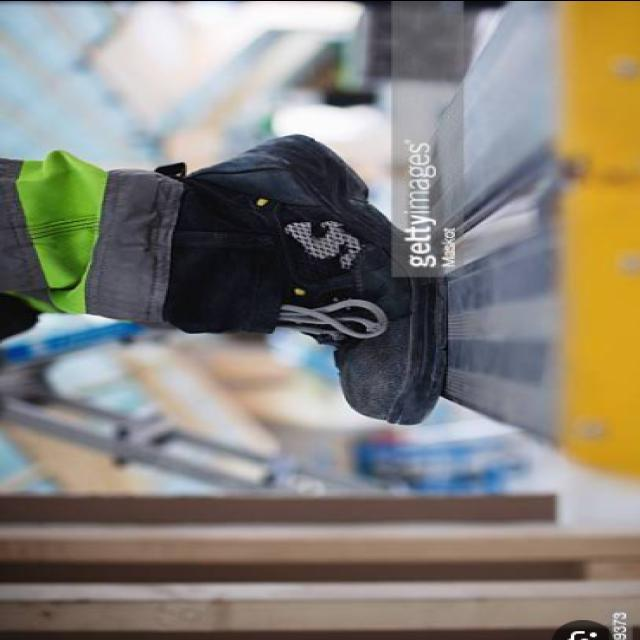shoes: (113, 129, 452, 425)
